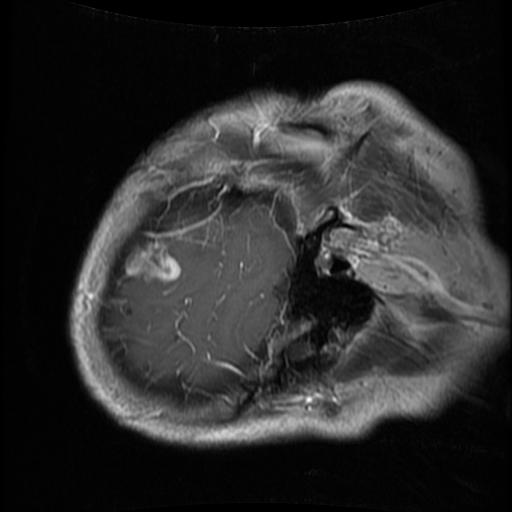glioma: (123, 234, 180, 281)
